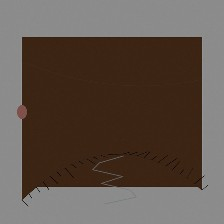foreign_body_visible: (96, 94, 139, 128)
